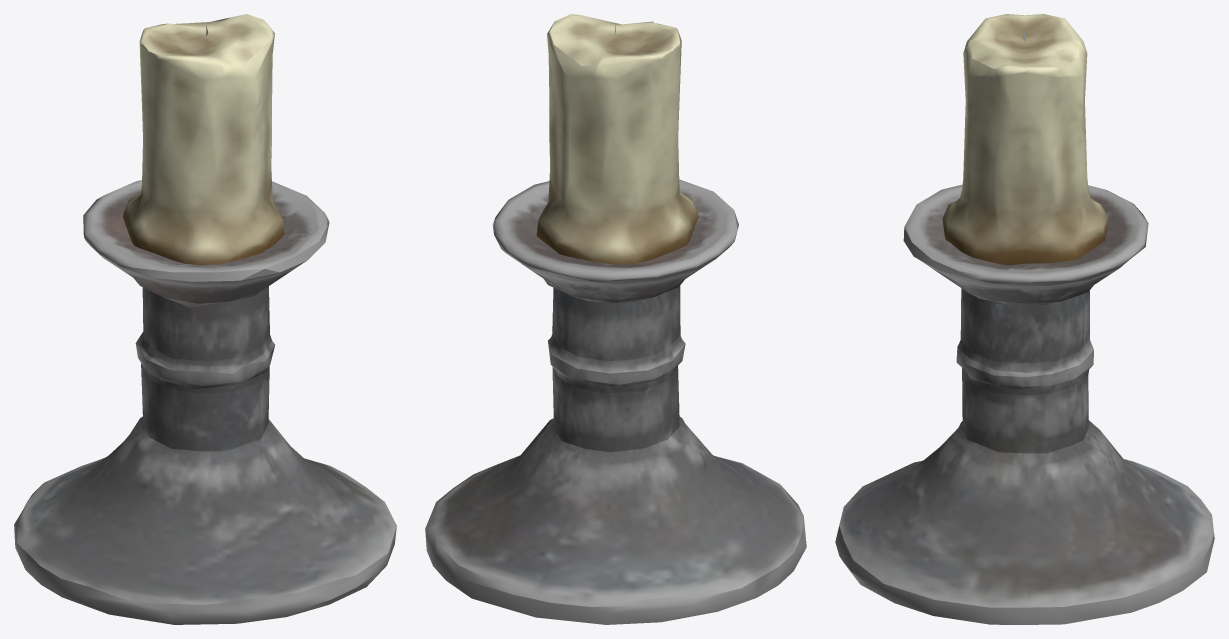
The model's file is SM_Candle01.fbx.
3 renders of one model, left to right at view 1: azimuth 30°, elevation 25°; view 2: azimuth 150°, elevation 25°; view 3: azimuth 270°, elevation 25°, orthographic.
Visible parts, largest first — view 1: SM_Candle01_LOD0; view 2: SM_Candle01_LOD0; view 3: SM_Candle01_LOD0.
Part boxes in pixels (x1,y1,x2,y2): SM_Candle01_LOD0: (14, 14, 396, 624); SM_Candle01_LOD0: (425, 14, 806, 624); SM_Candle01_LOD0: (835, 14, 1214, 624).
Size of the model in its own units: 14.93 by 15.12 by 22.77.
